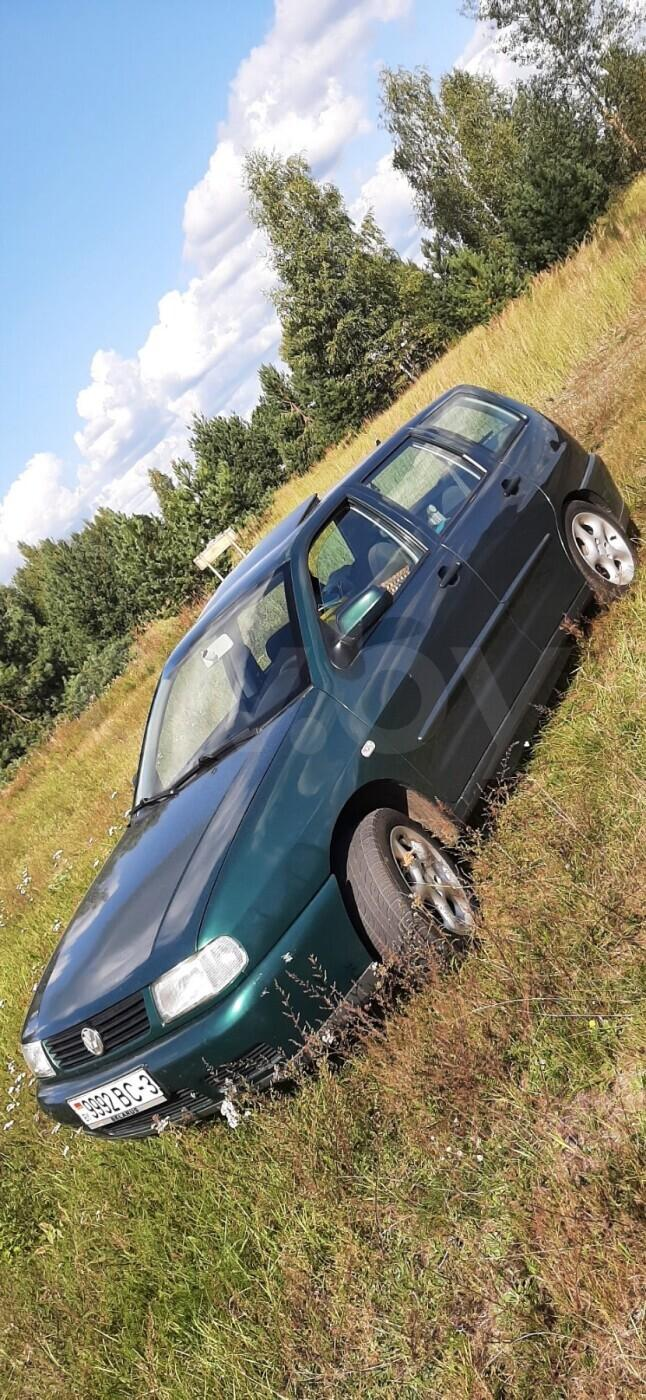Polo_1994-2002: (0, 387, 645, 1168)
